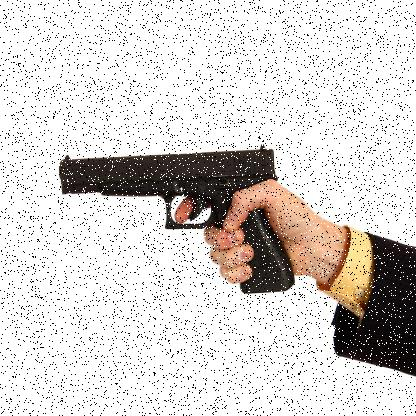pistol: (56, 135, 296, 297)
